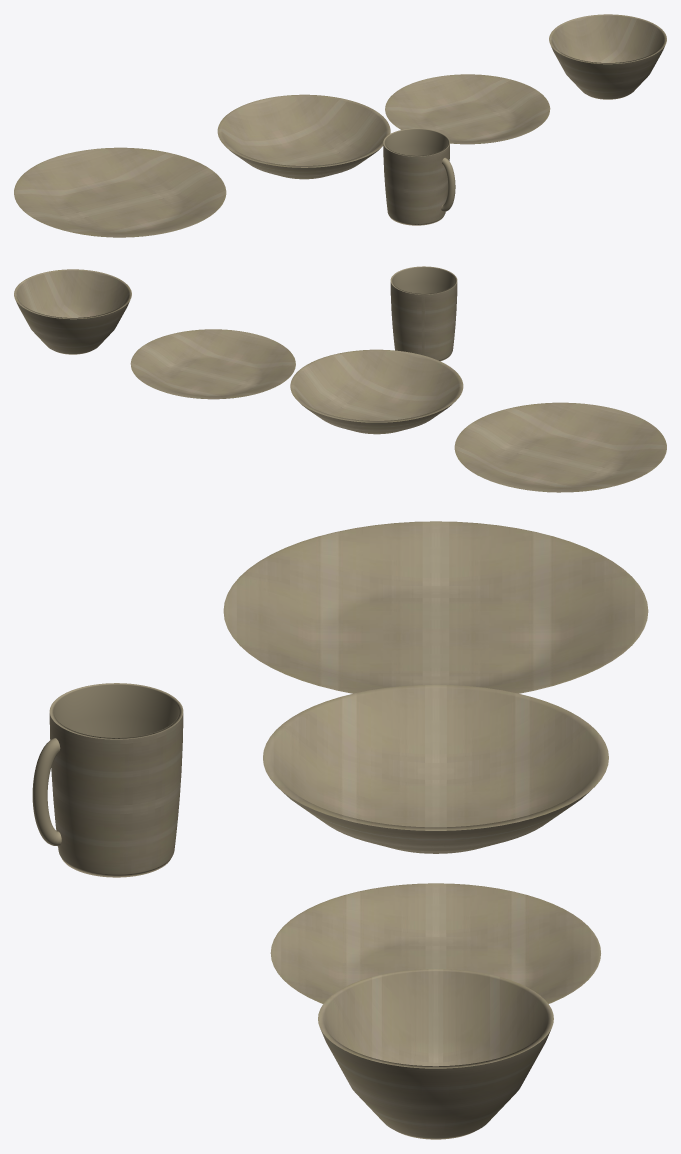
The model's file is GRL-06.glb.
3 views of the same model, one above another, from view 1: azimuth 30°, elevation 25°; view 2: azimuth 150°, elevation 25°; view 3: azimuth 270°, elevation 25° (orthographic). The views are drawn at different scales.
Size of the model in its own units: 0.926 by 0.1 by 0.3913.
Materials: 11 (9 with a texture image).
